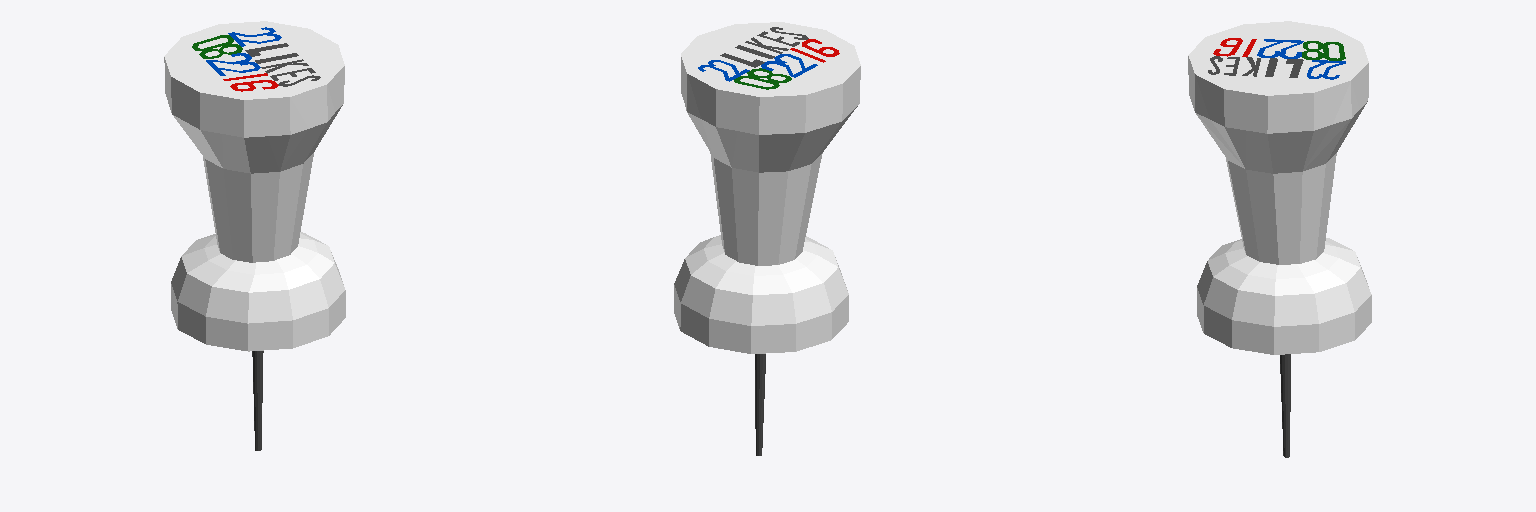
The picture shows the model from 3 angles: view 1: azimuth 30°, elevation 25°; view 2: azimuth 150°, elevation 25°; view 3: azimuth 270°, elevation 25°; orthographic projection.
Parts seen in each view (by area): view 1: group[number redacted]; view 2: group[number redacted]; view 3: group[number redacted].
Boxes of the visible parts, box(x1,y1,x2,y2) form: group[number redacted]: box(164, 21, 345, 450); group[number redacted]: box(674, 22, 860, 455); group[number redacted]: box(1188, 21, 1371, 457).
Size of the model in its own units: 0.255 by 0.6 by 0.2522.